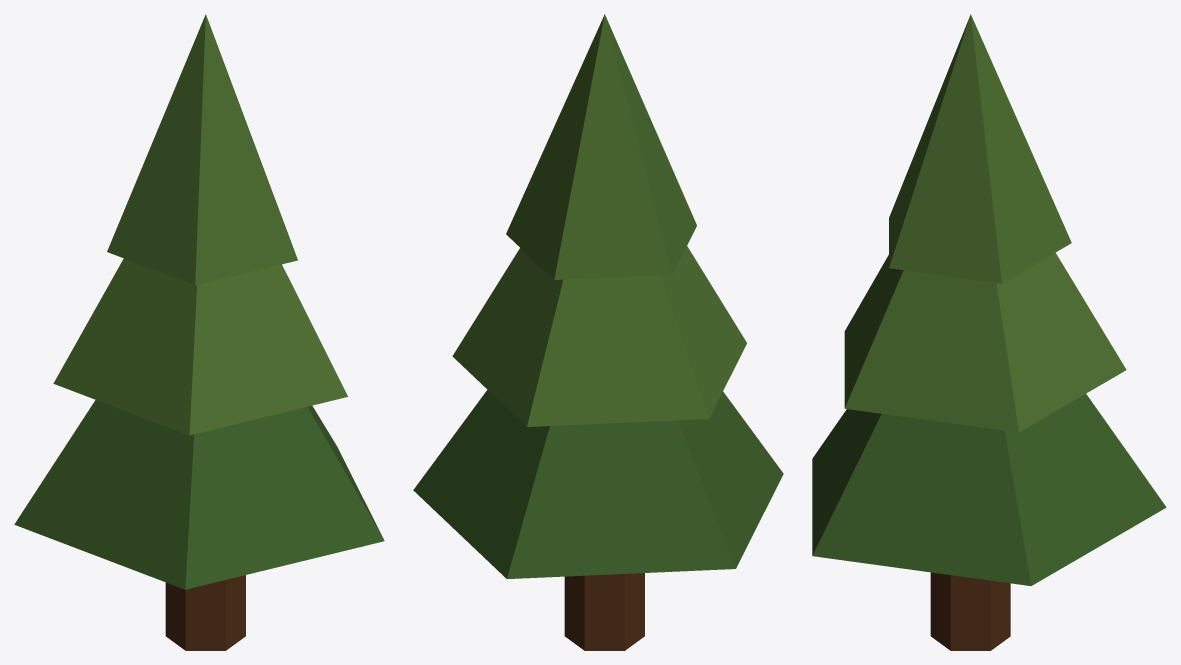
The model's file is tree.glb.
3 views of the same model, side by side, from view 1: azimuth 30°, elevation 25°; view 2: azimuth 150°, elevation 25°; view 3: azimuth 270°, elevation 25° (orthographic).
Visible parts, largest first — view 1: Pine.001, Pine, Trunk; view 2: Pine.001, Pine, Trunk; view 3: Pine.001, Pine, Trunk.
Boxes of the visible parts, x1,y1,x2,y2 form: Pine.001: (53,14,347,435); Pine: (14,400,384,589); Trunk: (165,575,245,650); Pine.001: (452,14,746,426); Pine: (413,390,783,578); Trunk: (564,573,644,650); Pine.001: (844,14,1126,432); Pine: (812,394,1166,585); Trunk: (930,572,1010,650).
Bounding box in the file's own units: 1.77 × 3.26 × 1.68.
